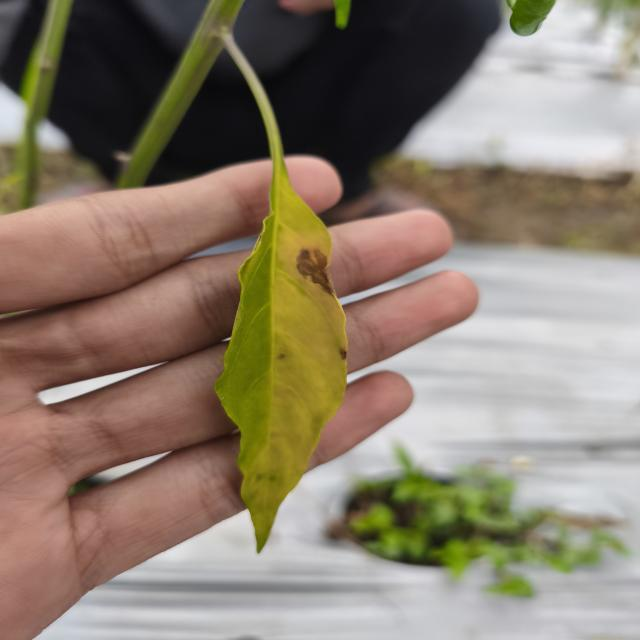Virus Kuning: (212, 173, 350, 554)
